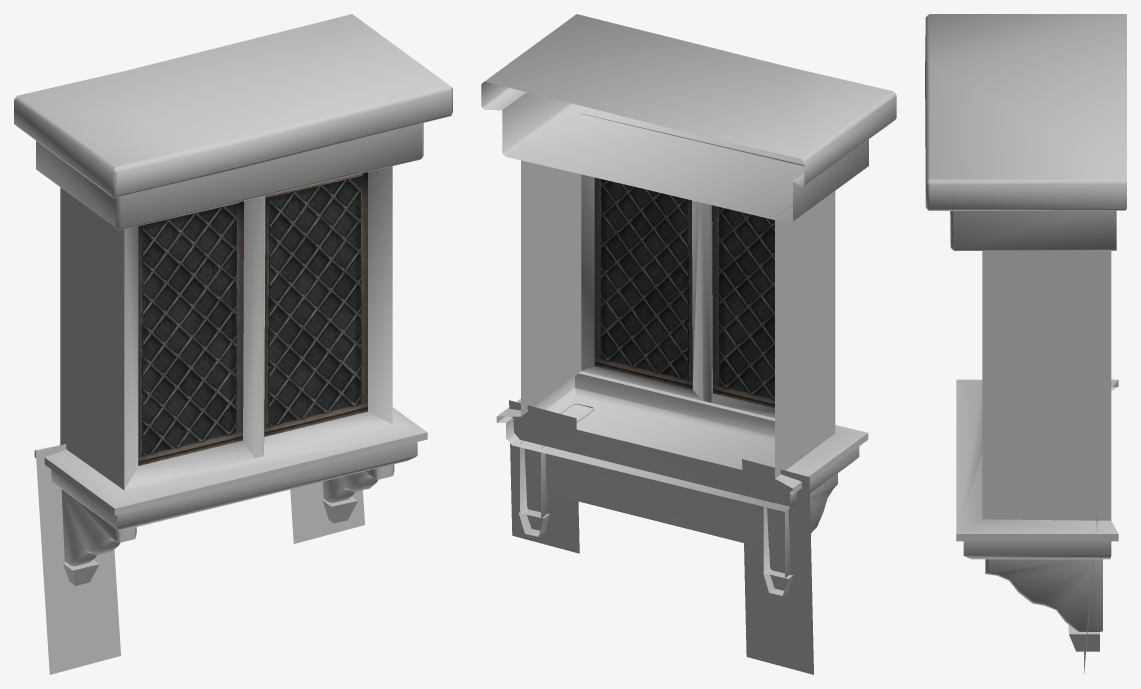
File: balkony2.fbx
3 renders of one model, left to right at view 1: azimuth 30°, elevation 25°; view 2: azimuth 150°, elevation 25°; view 3: azimuth 270°, elevation 25°, orthographic. The views are drawn at different scales.
Parts seen in each view (by area): view 1: Mesh Object; view 2: Mesh Object; view 3: Mesh Object.
Boxes of the visible parts, box(x1,y1,x2,y2) form: Mesh Object: box(14, 14, 452, 674); Mesh Object: box(481, 14, 896, 674); Mesh Object: box(925, 14, 1126, 673).
Size of the model in its own units: 2.26 by 3.57 by 1.14.
